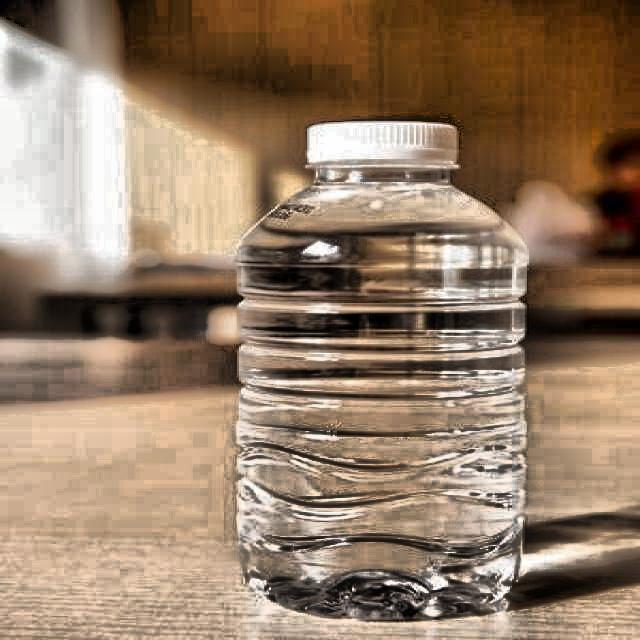plastic bottle: (237, 121, 529, 622)
